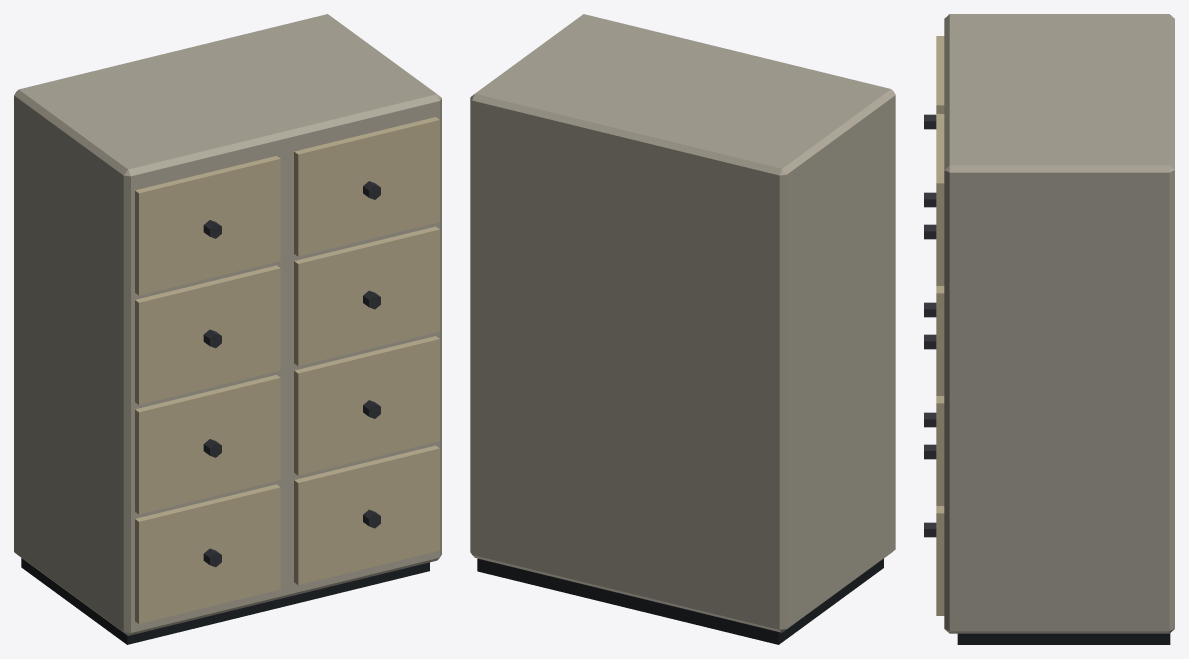
Rendered from filing-cabinet-07.glb.
3 views of the same model, side by side, from view 1: azimuth 30°, elevation 25°; view 2: azimuth 150°, elevation 25°; view 3: azimuth 270°, elevation 25° (orthographic).
Parts seen in each view (by area): view 1: filing_cabinet_07; view 2: filing_cabinet_07; view 3: filing_cabinet_07.
Boxes of the visible parts, <box> form: filing_cabinet_07: <box>14,14,441,644</box>; filing_cabinet_07: <box>470,14,895,644</box>; filing_cabinet_07: <box>924,14,1174,644</box>.
Bounding box in the file's own units: 0.8213 × 1.18 × 0.5583.
